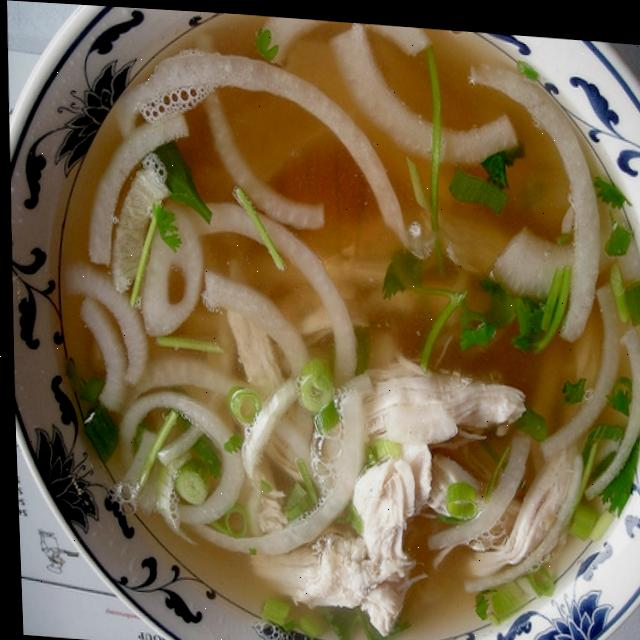面条主食: (23, 1, 640, 640)
